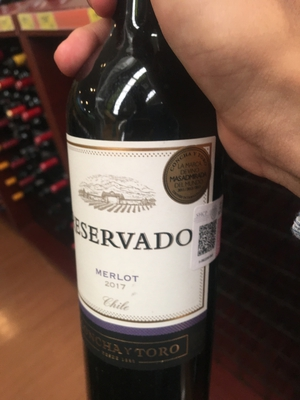reservado merlot: (59, 18, 234, 400)
